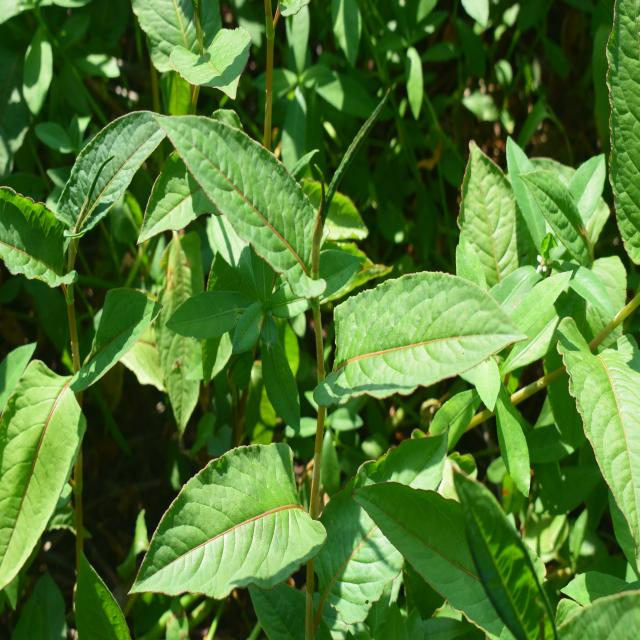Chinese_knotweed: (177, 113, 513, 394), (152, 442, 326, 604)
